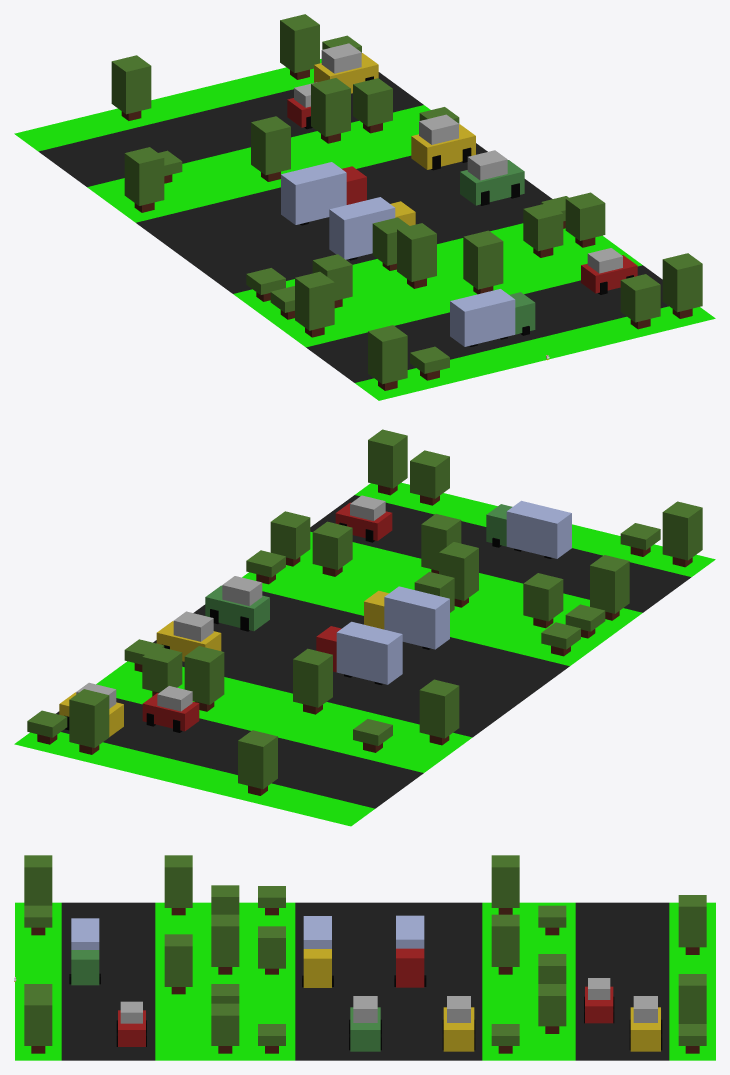
The picture shows the model from 3 angles, top to bottom: view 1: azimuth 30°, elevation 25°; view 2: azimuth 150°, elevation 25°; view 3: azimuth 270°, elevation 25°; orthographic projection. The views are drawn at different scales.
Parts seen in each view (by area): view 1: Plano-completo, red-truck-1, green-truck-1, yellow-truck-1, green-car-1, yellow-car-1, tall-three-4, tall-three-3, tall-three-1, tall-three-2.3, tall-three-2, tall-three-3.2 (+16 smaller); view 2: Plano-completo, red-truck-1, yellow-truck-1, green-truck-1, green-car-1, tall-three-1.2, tall-three-4.2, tall-three-3, tall-three-3.2, tall-three-4, tall-three-1, tall-three-2 (+19 smaller); view 3: Plano-completo, red-truck-1, yellow-truck-1, green-truck-1, yellow-car-1, yellow-car-2, green-car-1, tall-three-1, tall-three-2.2, tall-three-2.3, tall-three-2, tall-three-3.2 (+18 smaller).
Part boxes in pixels (<box>): Plano-completo: <box>14,59,715,400</box>; red-truck-1: <box>281,162,366,225</box>; green-truck-1: <box>450,289,535,346</box>; yellow-truck-1: <box>329,197,415,260</box>; green-car-1: <box>460,150,524,205</box>; yellow-car-1: <box>411,114,475,170</box>; tall-three-4: <box>111,55,151,120</box>; tall-three-3: <box>124,147,164,212</box>; tall-three-1: <box>662,253,702,318</box>; tall-three-2.3: <box>463,230,503,294</box>; tall-three-2: <box>295,271,334,337</box>; tall-three-3.2: <box>251,116,290,181</box>; Plano-completo: <box>14,482,715,826</box>; red-truck-1: <box>316,621,402,685</box>; yellow-truck-1: <box>364,586,449,649</box>; green-truck-1: <box>486,500,571,558</box>; green-car-1: <box>205,576,269,631</box>; tall-three-1.2: <box>662,501,702,567</box>; tall-three-4.2: <box>69,689,109,754</box>; tall-three-3: <box>419,679,459,745</box>; tall-three-3.2: <box>293,648,332,714</box>; tall-three-4: <box>238,730,277,795</box>; tall-three-1: <box>368,429,407,495</box>; tall-three-2: <box>590,555,629,620</box>; Plano-completo: <box>15,902,715,1060</box>; red-truck-1: <box>394,915,426,987</box>; yellow-truck-1: <box>302,916,333,987</box>; green-truck-1: <box>69,918,100,985</box>; yellow-car-1: <box>442,996,475,1051</box>; yellow-car-2: <box>629,996,662,1051</box>; green-car-1: <box>349,996,381,1051</box>; tall-three-1: <box>24,993,52,1053</box>; tall-three-2.2: <box>211,914,239,974</box>; tall-three-2.3: <box>164,934,192,994</box>; tall-three-2: <box>164,855,192,915</box>; tall-three-3.2: <box>491,914,519,974</box>.
Bounding box in the file's own units: 80 × 12.95 × 150.
